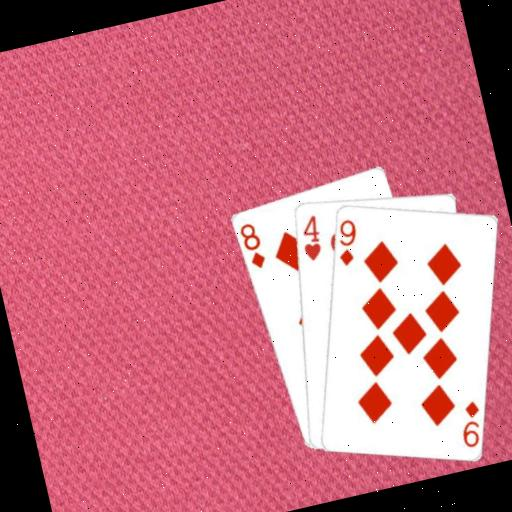4H: (293, 211, 327, 264)
8D: (235, 218, 269, 273)
9D: (328, 214, 366, 269), (451, 396, 489, 451)
